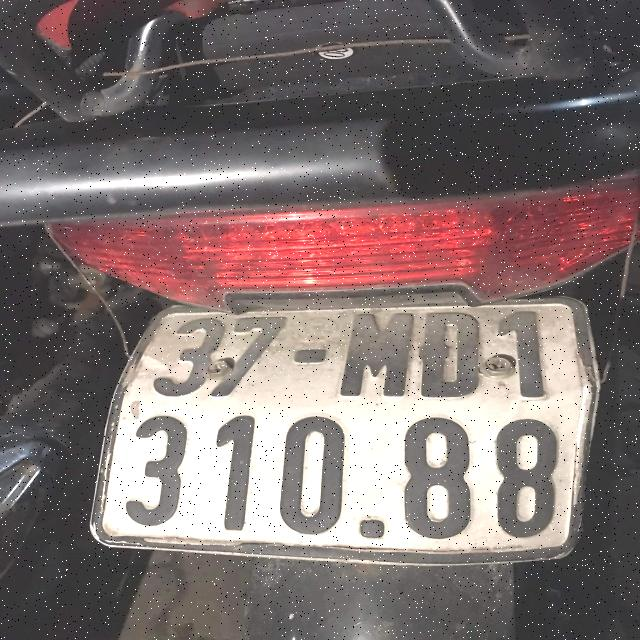0: (274, 411, 352, 537)
1: (206, 410, 262, 532), (494, 307, 551, 398)
3: (122, 411, 191, 528), (148, 308, 224, 399)
7: (214, 310, 289, 398)
8: (397, 411, 478, 541), (490, 414, 562, 540)
B: (416, 308, 484, 399)
